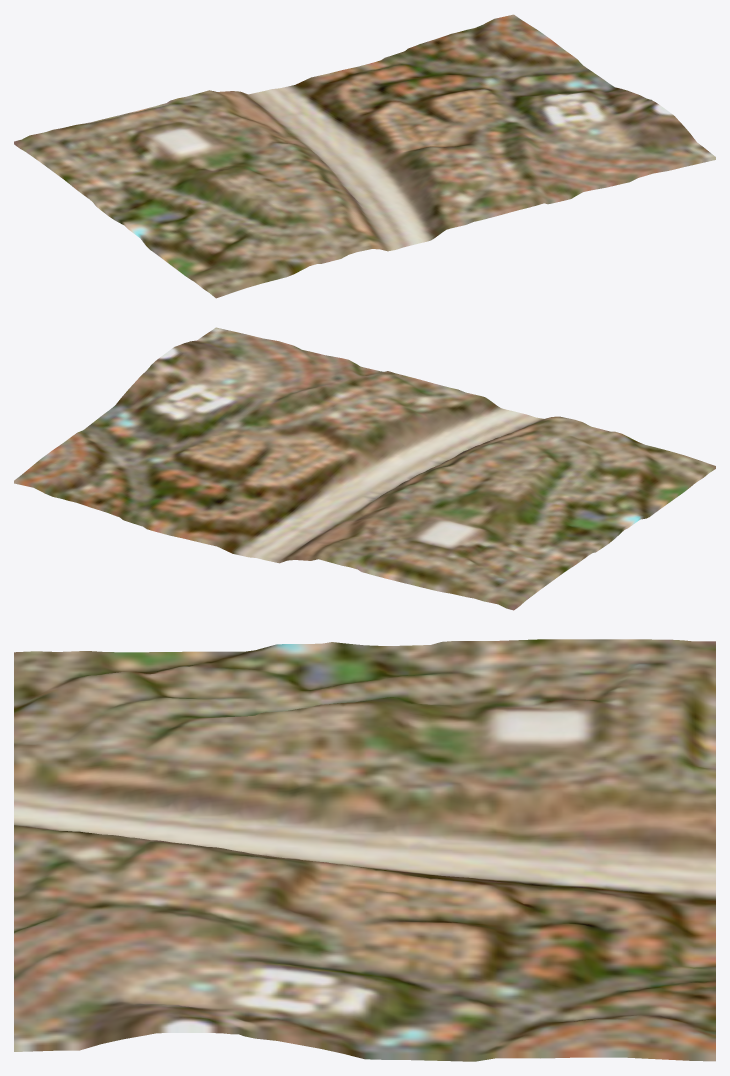
The model's file is terrain_r5_c7_lod1.glb.
The picture shows the model from 3 angles, top to bottom: view 1: azimuth 30°, elevation 25°; view 2: azimuth 150°, elevation 25°; view 3: azimuth 270°, elevation 25°; orthographic projection. The views are drawn at different scales.
Parts seen in each view (by area): view 1: terrain_r5_c7_lod1; view 2: terrain_r5_c7_lod1; view 3: terrain_r5_c7_lod1.
Part boxes in pixels (x1=…): terrain_r5_c7_lod1: x1=14, y1=14, x2=715, y2=298; terrain_r5_c7_lod1: x1=14, y1=327, x2=715, y2=610; terrain_r5_c7_lod1: x1=14, y1=639, x2=715, y2=1061.
Bounding box in the file's own units: 1125 × 77.8 × 787.
1 material, 1 textured.
